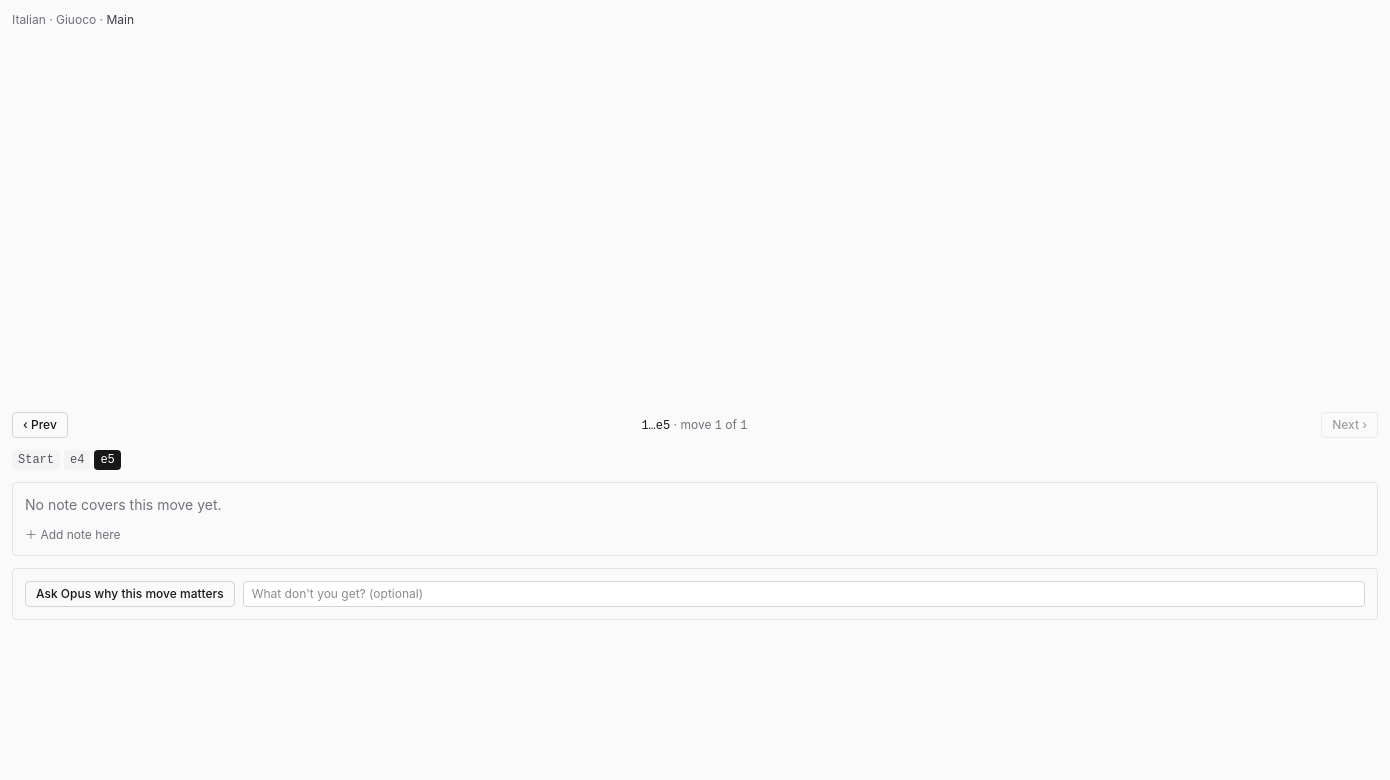
Test: LineAskPanel in the walk-through › an empty question is answered as 'why this move matters'
Click the button "Ask Opus why this move matters".
click(130, 594)  # box [25,581,235,607]
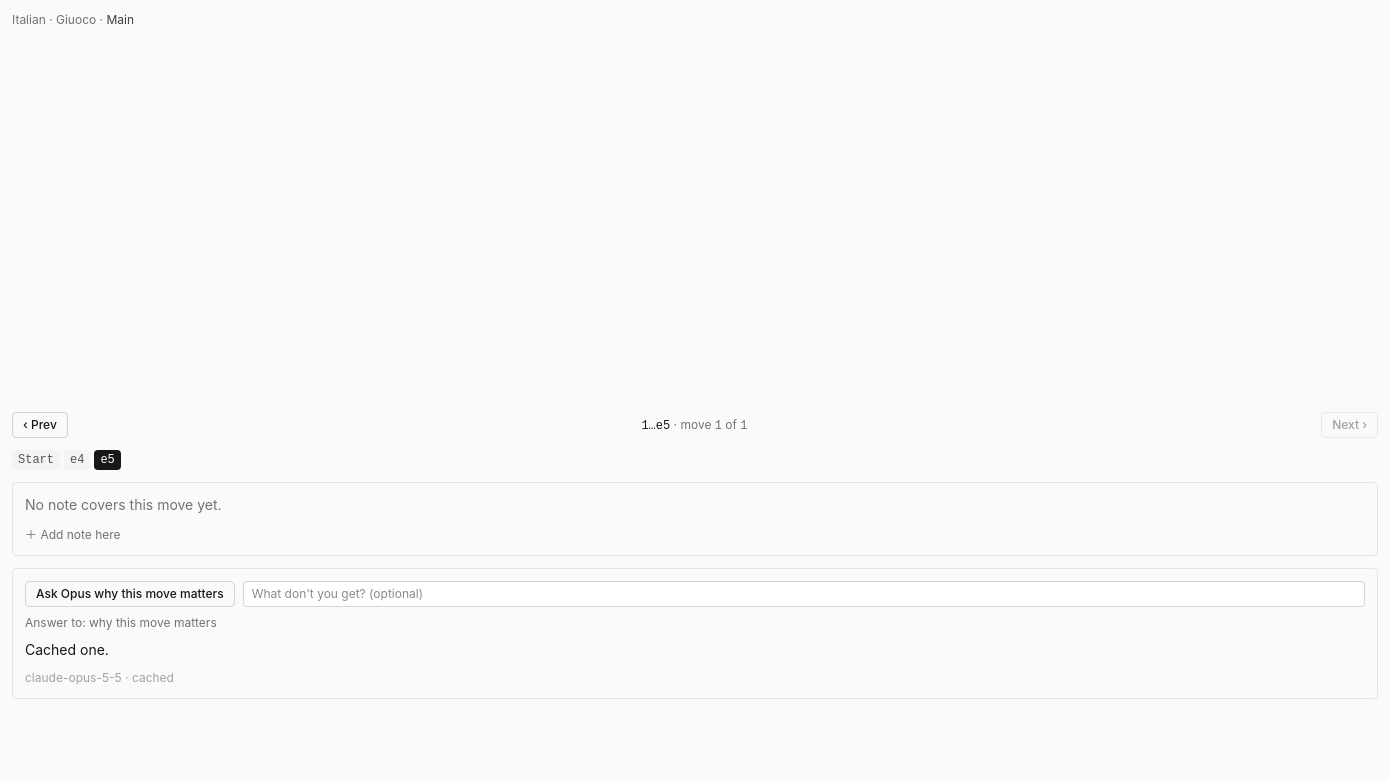
Now the element with test id "line-answer" shows "Answer to: why this move matters", box [25,615,217,685]
Now the element with test id "line-answer" shows "claude-opus-5-5 · cached", box [25,615,217,685]
